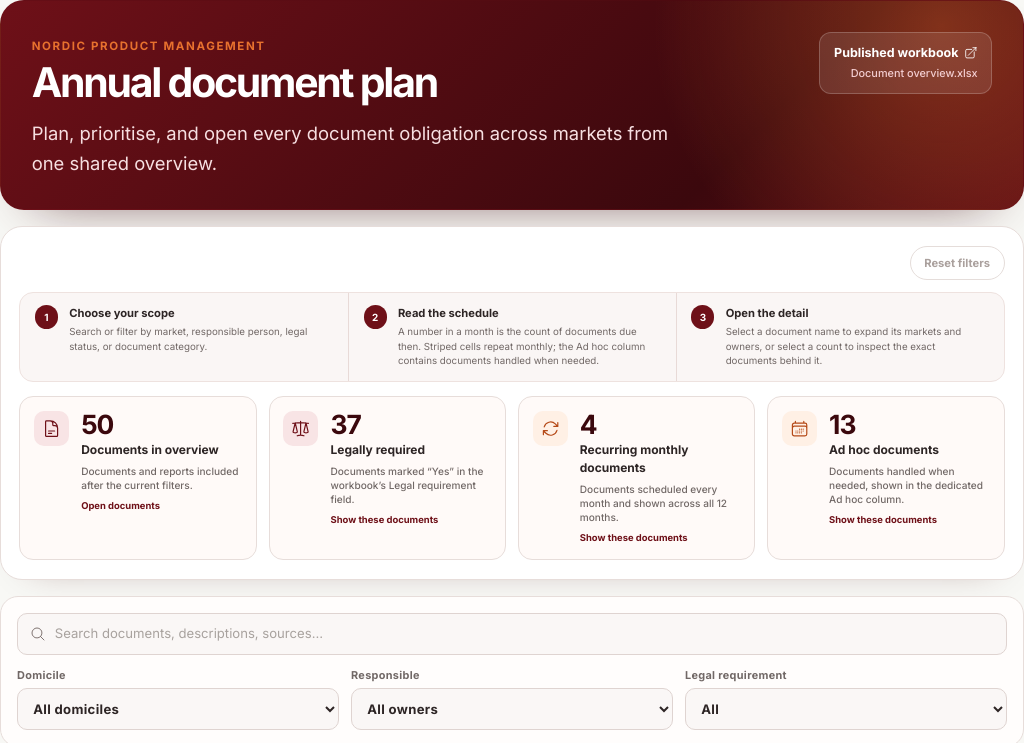
Test case: AnnualPlanContent › explains summary metrics and uses them as document filters
expect the text "Choose your scope" is shown: met, box [69, 306, 175, 320]
expect the text "A number in a month is the count" is shown: met, box [398, 326, 645, 366]
Click the button with aria-label "Show recurring monthly documents filter" at (637, 478), box [518, 396, 755, 560]
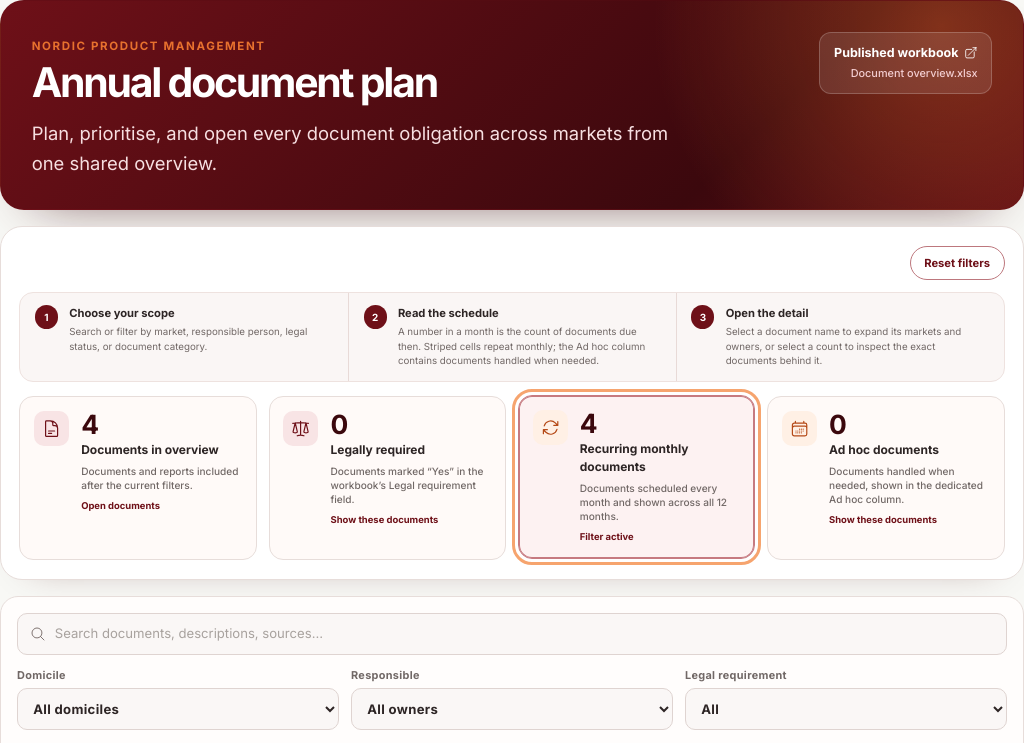
expect the text with test id "matching-count" reads "4": met, box [81, 408, 98, 440]
Click the button "Reset filters" at (957, 263), box [910, 246, 1005, 280]
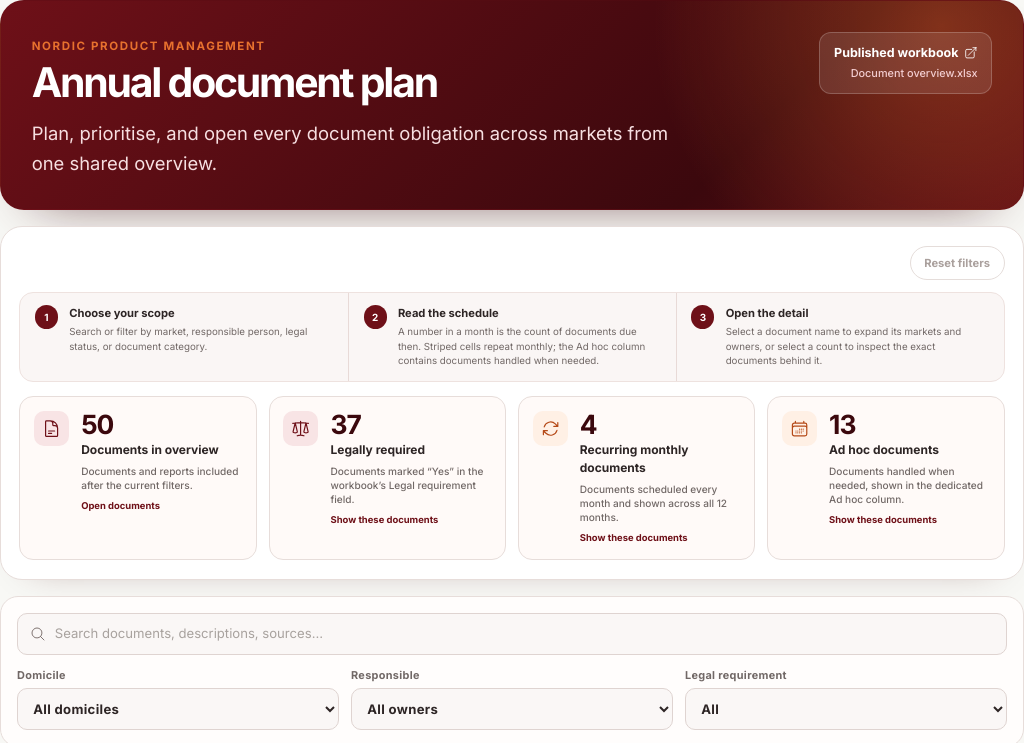
expect the text with test id "matching-count" reads "50": met, box [81, 408, 113, 440]
expect the button "Reset filters" is disabled: met, box [910, 246, 1005, 280]
Click the button with aria-label "Show ad hoc documents filter" at (886, 478), box [767, 396, 1005, 560]
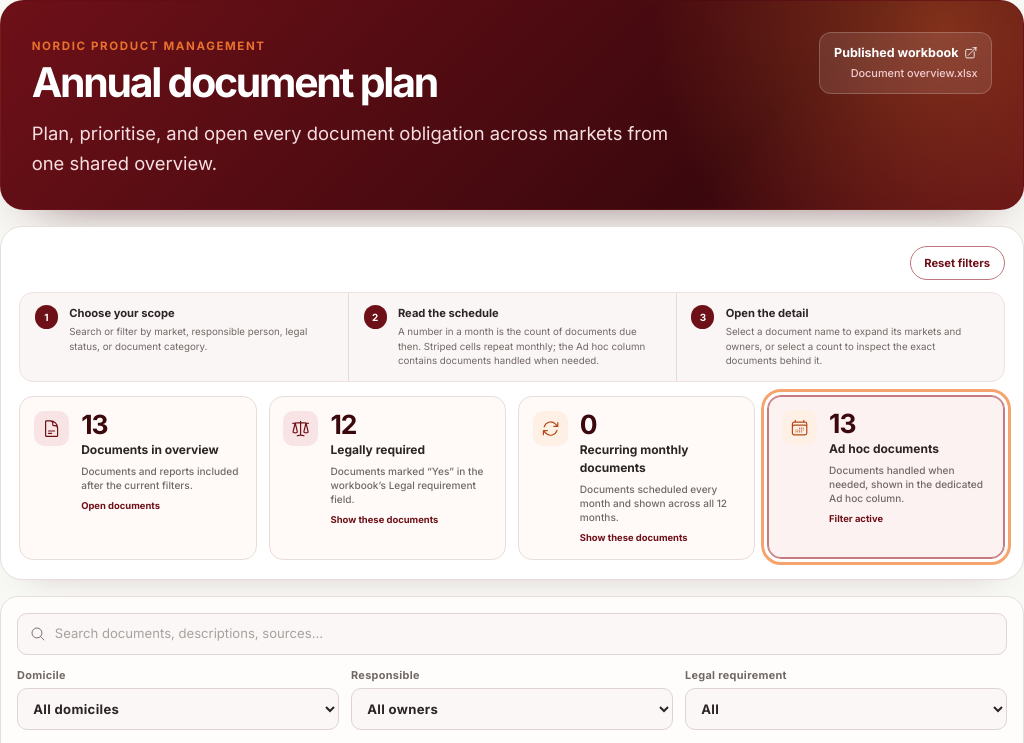
expect the text with test id "matching-count" reads "13": met, box [81, 408, 108, 440]
Click the button with aria-label "Remove ad hoc documents filter" at (886, 477), box [767, 395, 1005, 559]
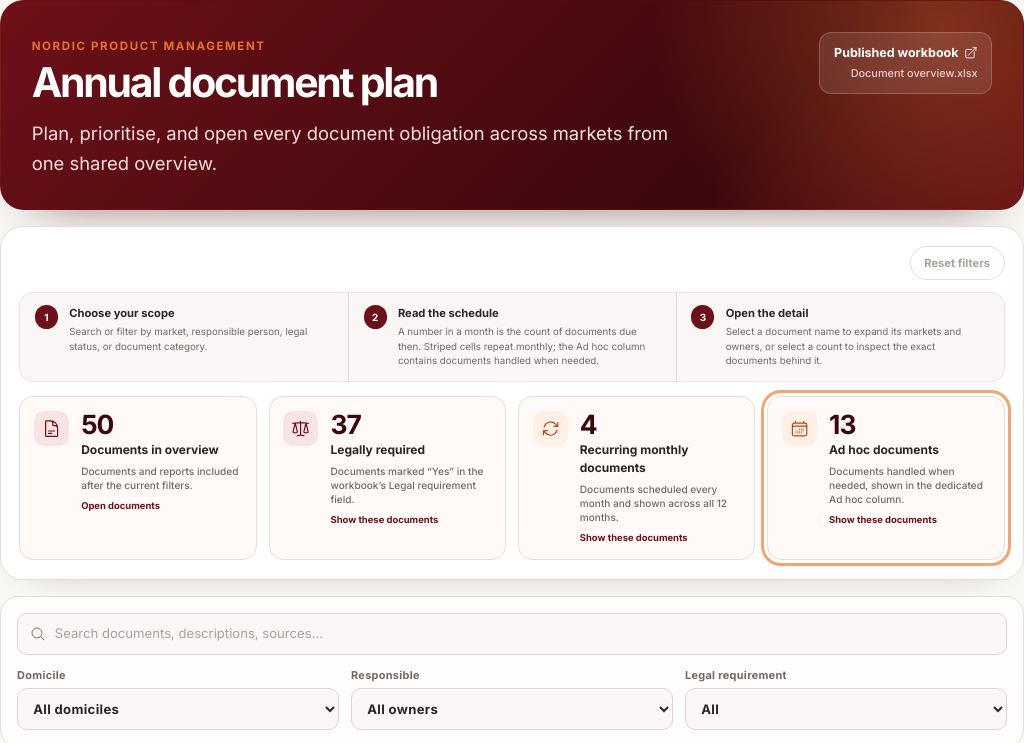
Click the button with aria-label "Show legal requirement filter" at (387, 478), box [269, 396, 506, 560]
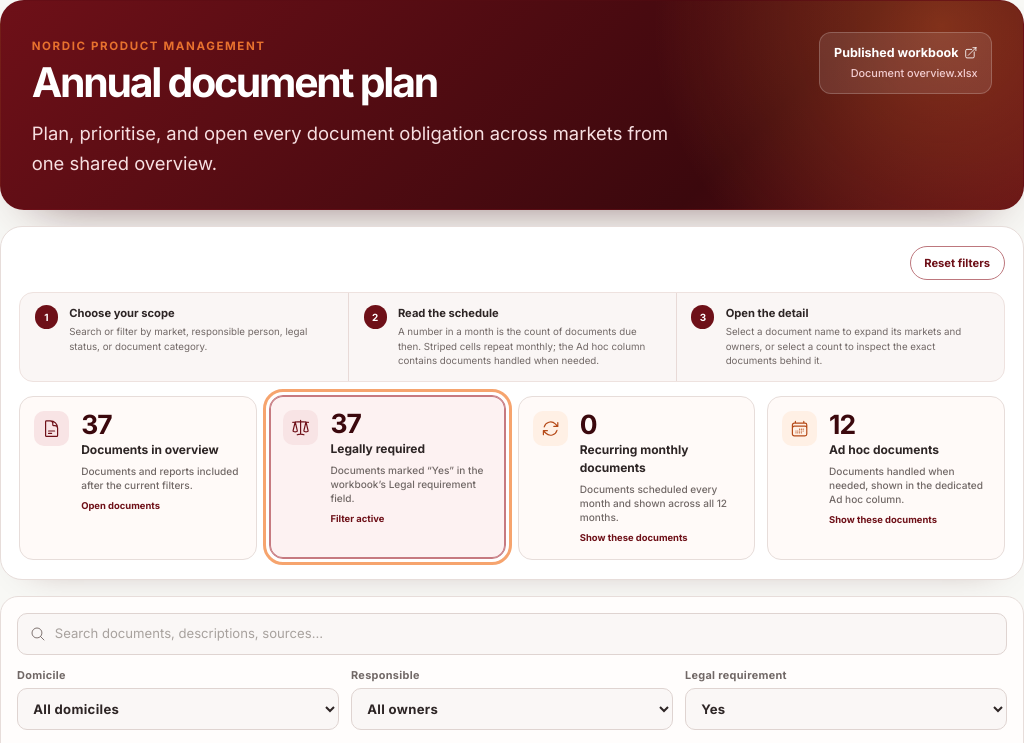
expect the text with test id "matching-count" reads "37": met, box [81, 408, 112, 440]
expect the dropdown named "Filter by legal requirement" shows "Yes": met, box [685, 688, 1007, 730]
